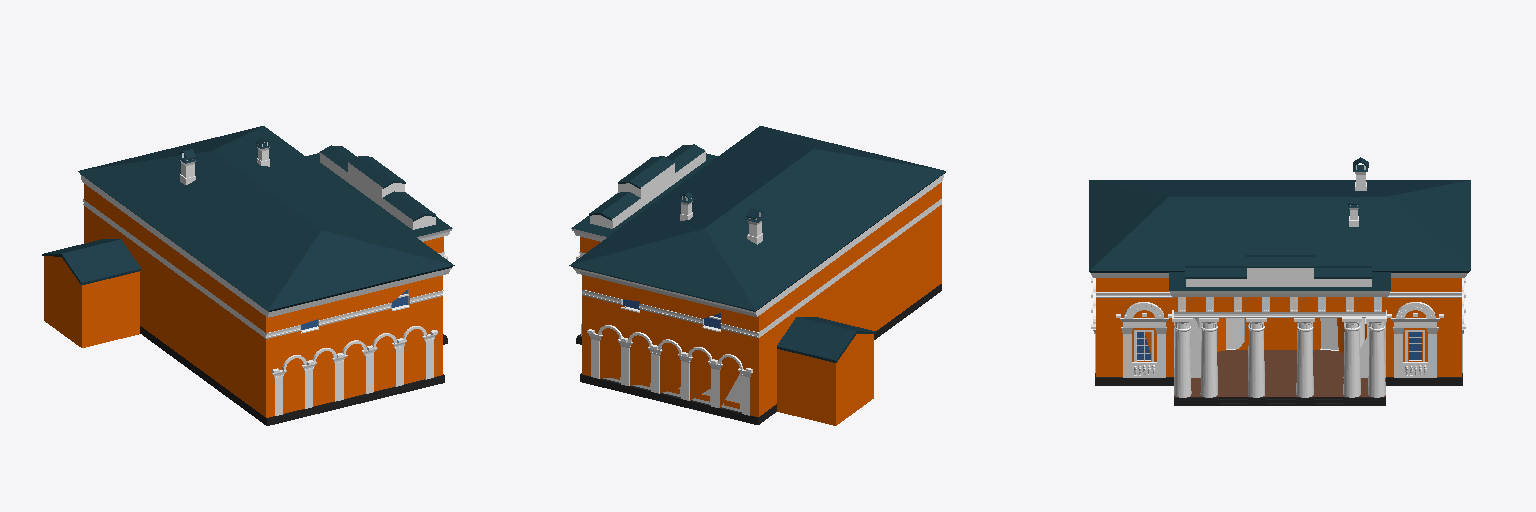
Rendered from GuardHouseNew.obj.
The picture shows the model from 3 angles: view 1: azimuth 30°, elevation 25°; view 2: azimuth 150°, elevation 25°; view 3: azimuth 270°, elevation 25°; orthographic projection.
Visible parts, largest first — view 1: Cube.027_Cube.063; view 2: Cube.027_Cube.063; view 3: Cube.027_Cube.063.
Boxes of the visible parts, box(x1,y1,x2,y2) form: Cube.027_Cube.063: box(42, 126, 454, 425); Cube.027_Cube.063: box(569, 126, 945, 425); Cube.027_Cube.063: box(1089, 157, 1470, 405).
Size of the model in its own units: 31.52 by 17.69 by 36.83.